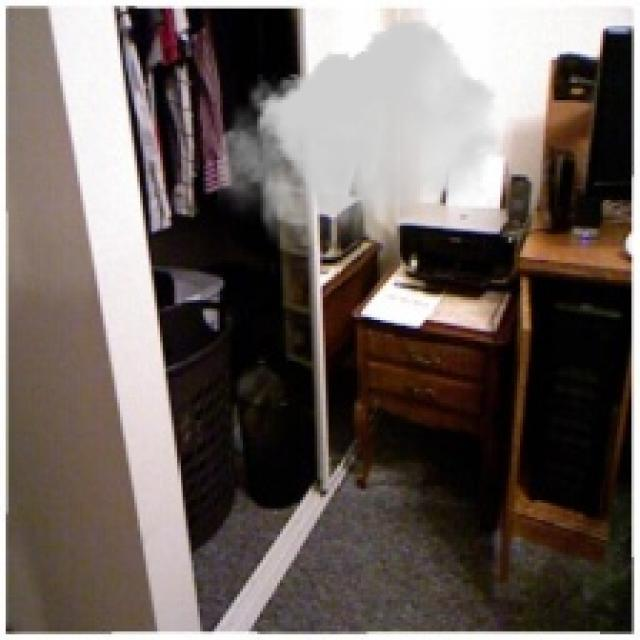Smoke: (217, 20, 500, 246)
